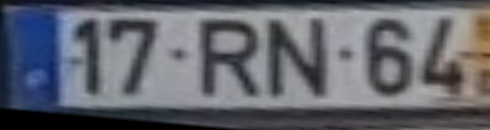1: (72, 16, 107, 98)
4: (420, 17, 471, 99)
6: (362, 16, 420, 102)
7: (105, 17, 165, 98)
N: (262, 17, 332, 102)
R: (197, 18, 265, 99)
